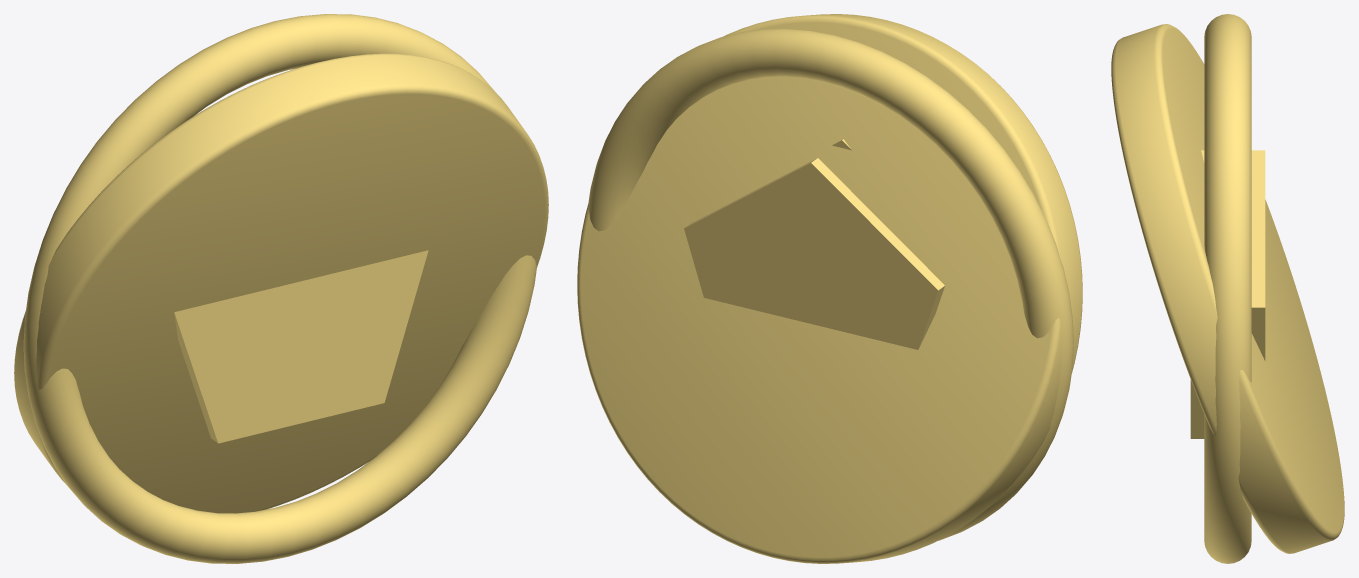
File: gold.glb
The picture shows the model from 3 angles, left to right: view 1: azimuth 30°, elevation 25°; view 2: azimuth 150°, elevation 25°; view 3: azimuth 270°, elevation 25°; orthographic projection. The views are drawn at different scales.
Parts seen in each view (by area): view 1: Cylinder, Torus, Cylinder.001; view 2: Cylinder, Torus, Cylinder.002; view 3: Cylinder, Torus, Cylinder.002, Cylinder.001.
Boxes of the visible parts, x1,y1,x2,y2 form: Cylinder: [14, 53, 548, 513]; Torus: [23, 14, 536, 563]; Cylinder.001: [174, 250, 428, 443]; Cylinder: [577, 14, 1082, 563]; Torus: [588, 29, 1073, 540]; Cylinder.002: [684, 158, 944, 349]; Cylinder: [1111, 24, 1344, 553]; Torus: [1204, 14, 1251, 563]; Cylinder.002: [1251, 150, 1265, 360]; Cylinder.001: [1190, 150, 1204, 438].
Bounding box in the file's own units: 1.42 × 1.42 × 0.6023.
